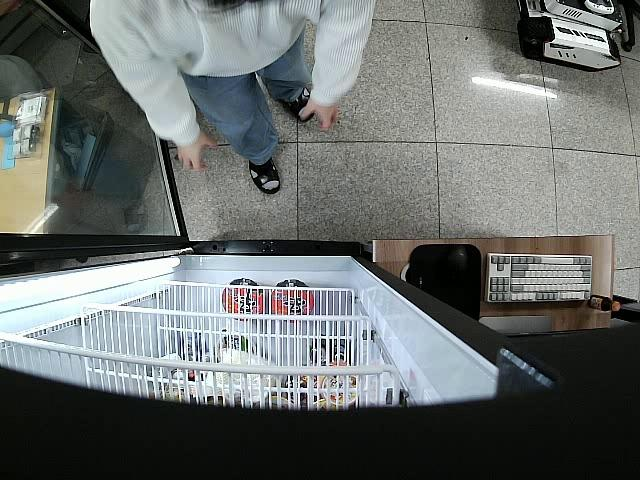00_hand: (174, 133, 219, 171), (298, 98, 340, 131)
